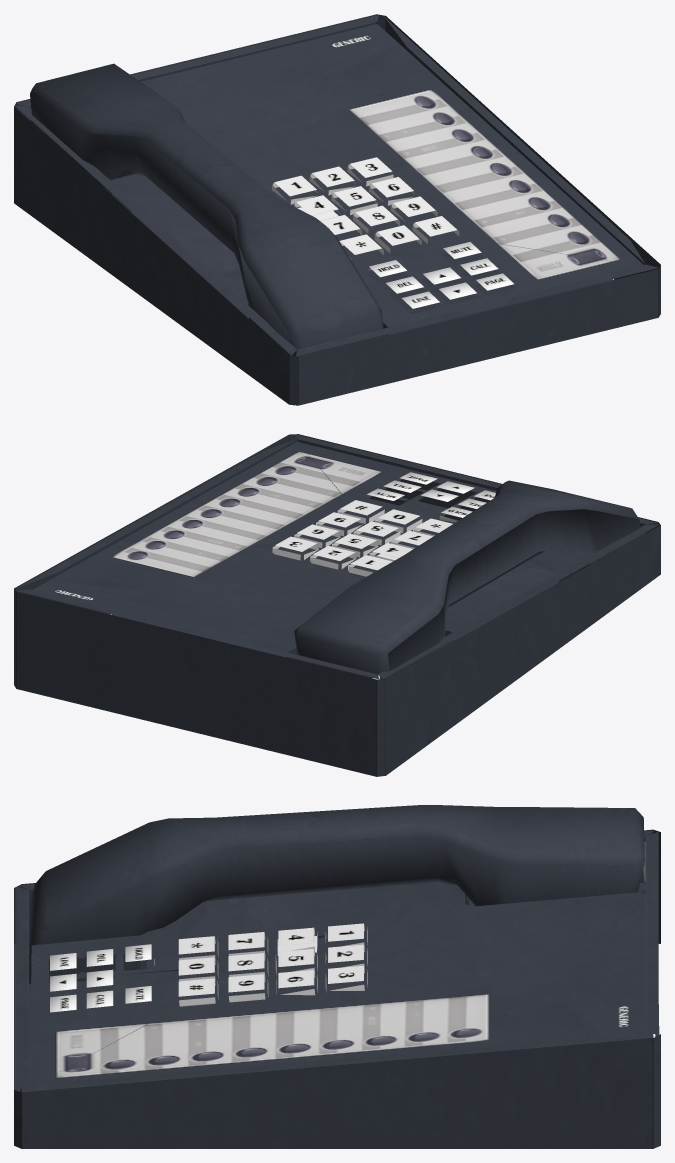
File: telephone.glb
The picture shows the model from 3 angles, top to bottom: view 1: azimuth 30°, elevation 25°; view 2: azimuth 150°, elevation 25°; view 3: azimuth 270°, elevation 25°; orthographic projection. The views are drawn at different scales.
Visible parts, largest first — view 1: Cubo, Plano; view 2: Cubo, Plano; view 3: Cubo, Plano.
Boxes of the visible parts, <box> form: Cubo: <box>14,14,660,405</box>; Plano: <box>30,63,383,355</box>; Cubo: <box>14,434,660,776</box>; Plano: <box>294,480,641,679</box>; Cubo: <box>14,829,660,1148</box>; Plano: <box>29,805,644,945</box>.
Size of the model in its own units: 0.129 by 0.0455 by 0.1694.
Materials: 2 (2 with a texture image).
